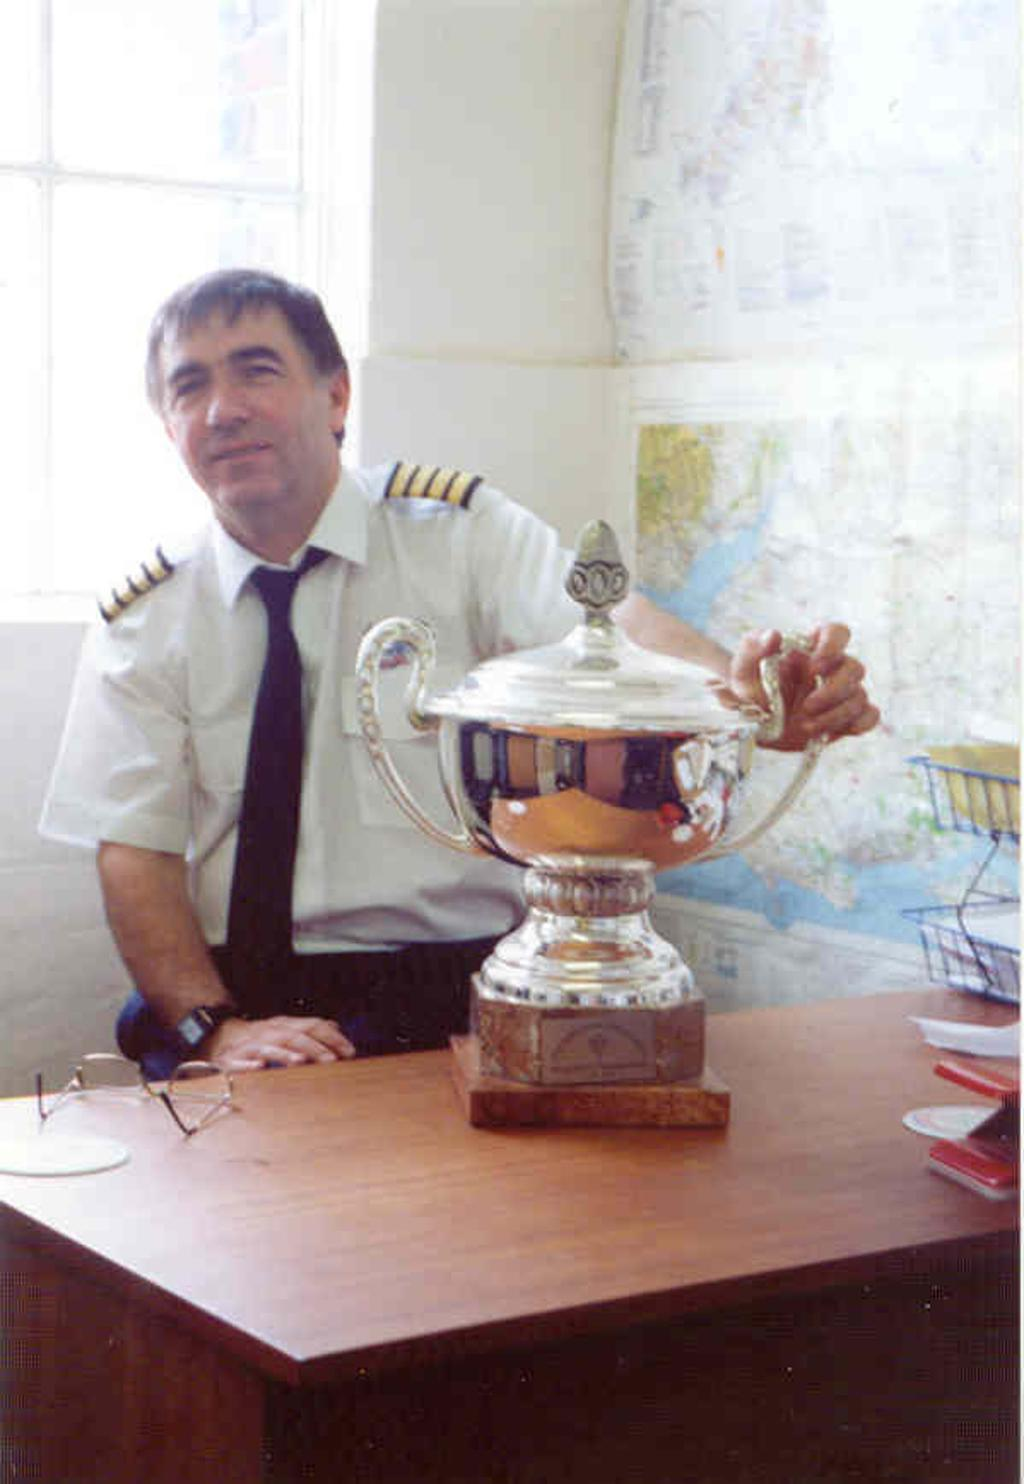face: (158, 308, 326, 508)
